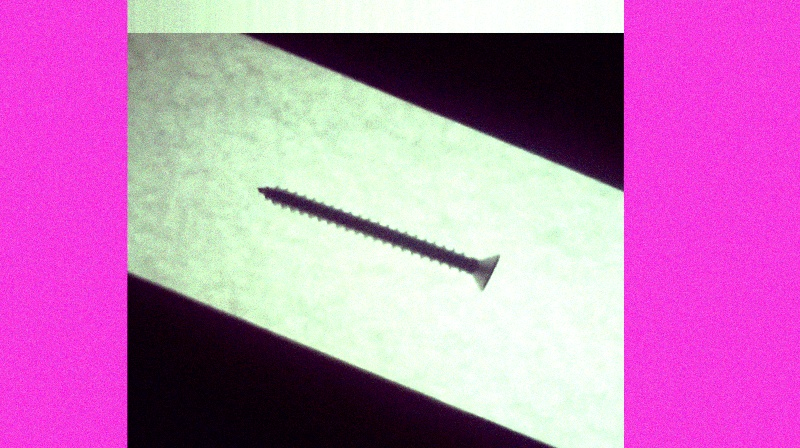S002: (254, 182, 504, 295)
